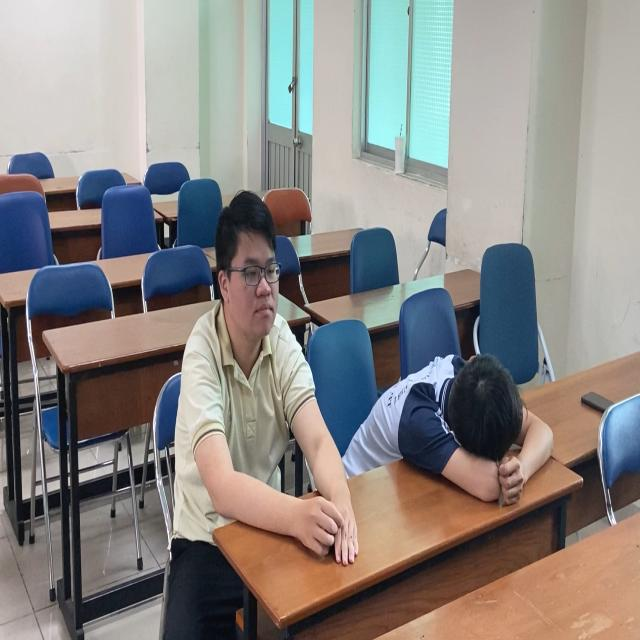sleep: (354, 339, 563, 519)
